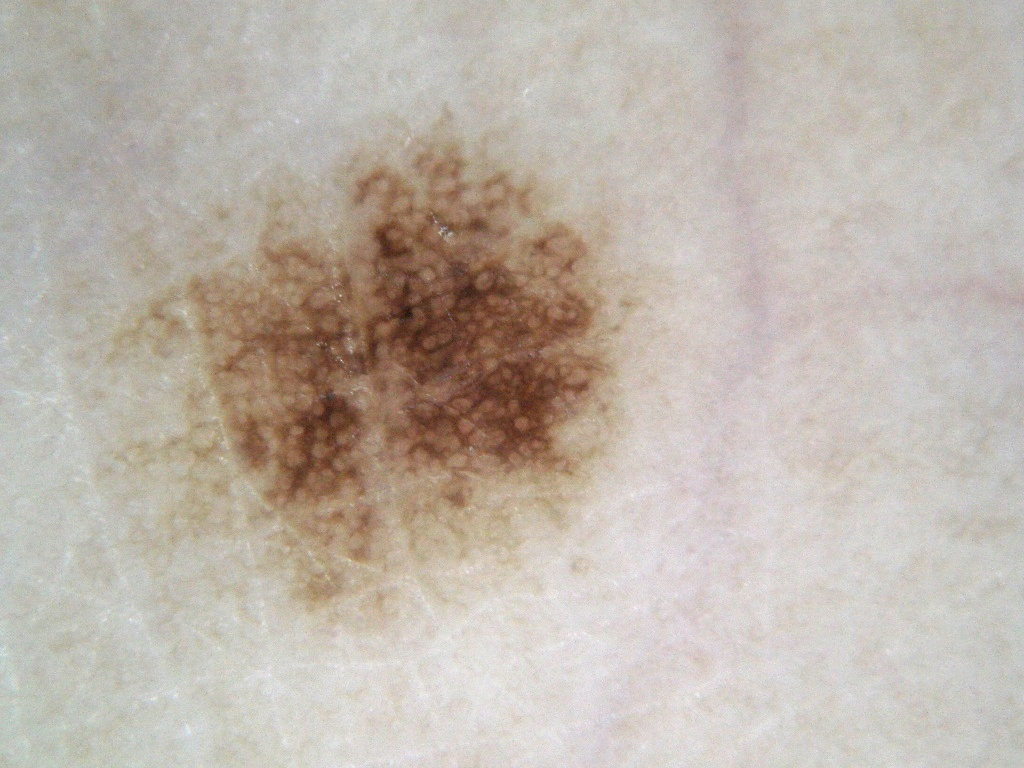Detected Lesion: (103, 136, 621, 616)
